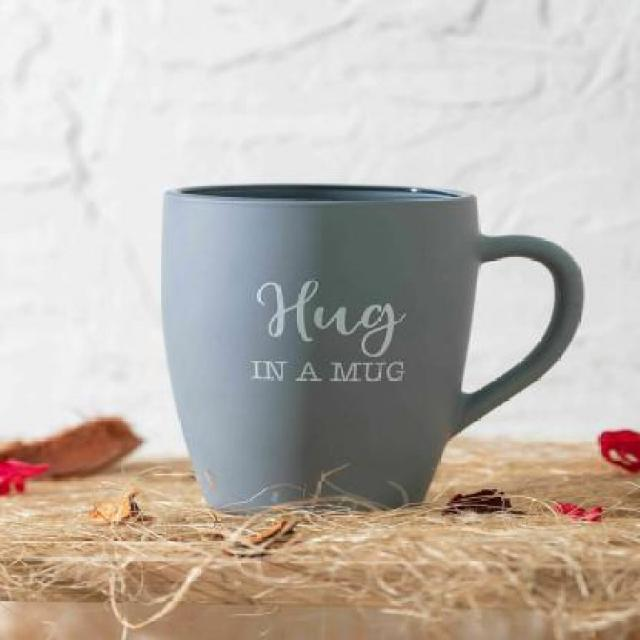taza: (143, 164, 591, 523)
